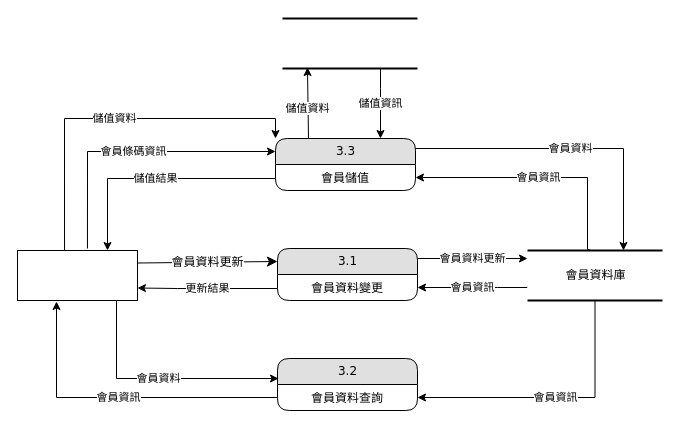
Some shapes in this 681 by 430 pixel diagram are drawn without their labels. The shapes that lost their labels are listed below. From the top down, each one's box as (x1, y1, x2, y2) in pixels, then its label:
(281, 17, 418, 69): 儲值資料表
(16, 250, 138, 300): 溫室管理者
